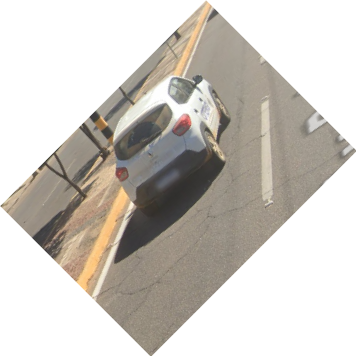car: (109, 70, 238, 222)
